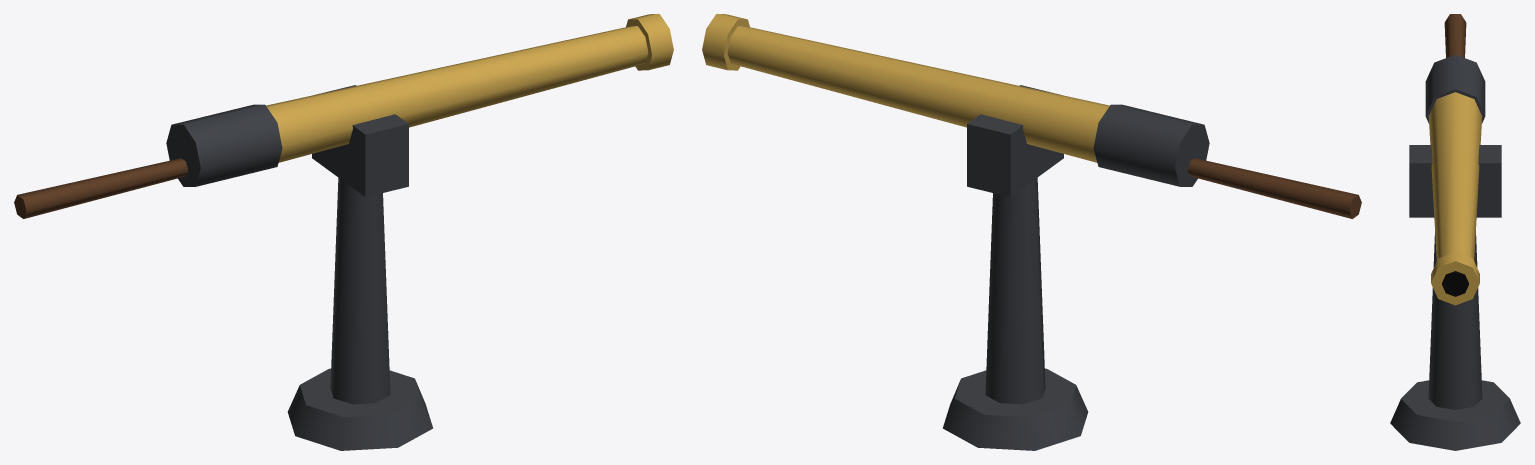
File: mount-swivel.glb
3 views of the same model, side by side, from view 1: azimuth 30°, elevation 25°; view 2: azimuth 150°, elevation 25°; view 3: azimuth 270°, elevation 25° (orthographic). The views are drawn at different scales.
Visible parts, largest first — view 1: Mesh_Barrel, Mesh_Post, Mesh_Foot, Mesh_Chamber, Mesh_Yoke, Mesh_Tiller, Mesh_MuzzleRing; view 2: Mesh_Barrel, Mesh_Post, Mesh_Foot, Mesh_Chamber, Mesh_Yoke, Mesh_Tiller, Mesh_MuzzleRing; view 3: Mesh_Barrel, Mesh_Foot, Mesh_Post, Mesh_Yoke, Mesh_Chamber, Mesh_MuzzleRing, Mesh_Tiller, Mesh_Bore.
Boxes of the visible parts, x1,y1,x2,y2 form: Mesh_Barrel: [266, 26, 648, 162]; Mesh_Post: [330, 178, 390, 404]; Mesh_Foot: [287, 368, 433, 450]; Mesh_Chamber: [166, 104, 282, 186]; Mesh_Yoke: [312, 85, 408, 197]; Mesh_Tiller: [14, 158, 188, 218]; Mesh_MuzzleRing: [626, 14, 673, 70]; Mesh_Barrel: [727, 26, 1109, 162]; Mesh_Post: [985, 178, 1045, 404]; Mesh_Foot: [942, 368, 1088, 450]; Mesh_Chamber: [1093, 104, 1209, 186]; Mesh_Yoke: [967, 85, 1063, 197]; Mesh_Tiller: [1187, 158, 1361, 218]; Mesh_MuzzleRing: [702, 14, 749, 70]; Mesh_Barrel: [1428, 92, 1482, 260]; Mesh_Foot: [1390, 380, 1520, 450]; Mesh_Post: [1428, 232, 1482, 409]; Mesh_Yoke: [1409, 145, 1501, 217]; Mesh_Chamber: [1425, 54, 1485, 123]; Mesh_MuzzleRing: [1431, 252, 1479, 305]; Mesh_Tiller: [1444, 14, 1466, 57]; Mesh_Bore: [1442, 271, 1468, 296].
Size of the model in its own units: 2.36 by 1.19 by 0.48.
